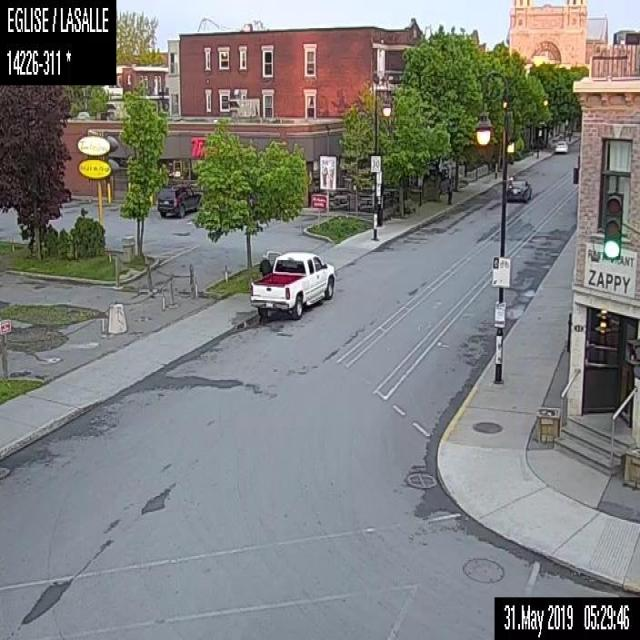pedestrian: (257, 255, 272, 275), (445, 176, 453, 203)
vehicle: (248, 249, 336, 319), (156, 183, 202, 217), (506, 177, 531, 200), (554, 137, 567, 152)
